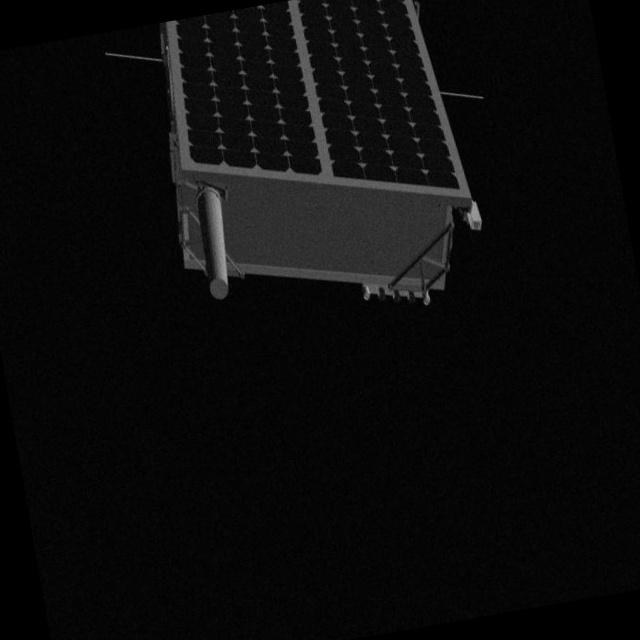satellite: (112, 0, 525, 342)
